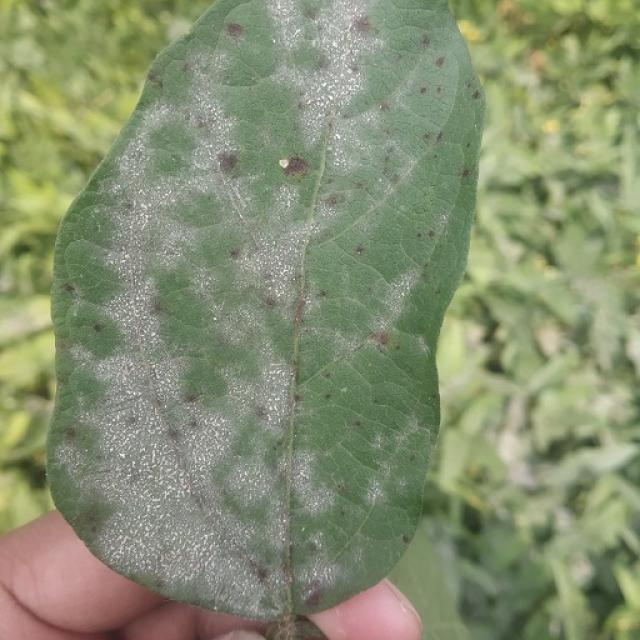Blackgram: (48, 0, 482, 635)
Powdery_Mildew: (101, 149, 323, 481), (120, 59, 325, 277), (84, 205, 198, 410), (147, 358, 281, 529), (257, 6, 385, 151), (129, 487, 256, 602), (99, 153, 195, 290), (76, 364, 177, 491), (113, 103, 224, 218), (223, 177, 317, 304), (130, 323, 213, 437), (200, 349, 288, 444), (110, 239, 170, 333), (300, 39, 362, 111), (118, 278, 162, 355), (166, 439, 206, 521), (261, 0, 318, 52), (118, 450, 127, 459), (211, 604, 220, 613), (331, 40, 339, 49), (340, 386, 348, 394), (212, 315, 218, 322), (300, 526, 306, 533), (272, 38, 277, 45), (378, 177, 383, 183)
